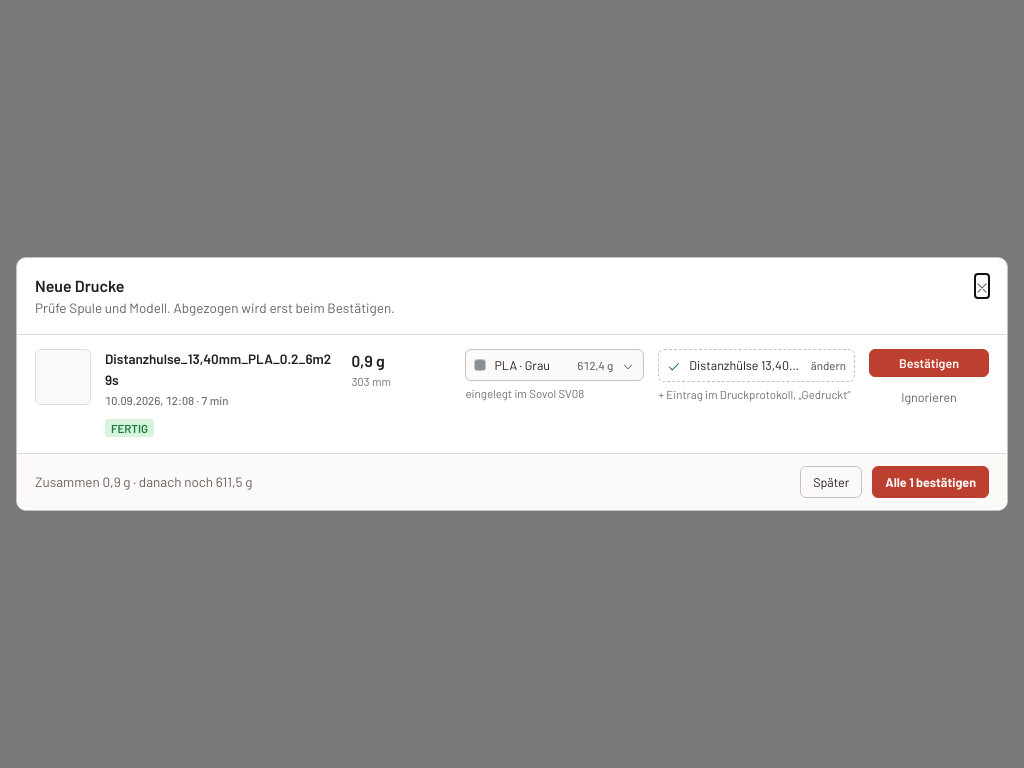
Test: PrinterJobsDialog › shows an error message when confirming is rejected
Click the button "Bestätigen". click: click(929, 363)
box: [869,349,989,377]
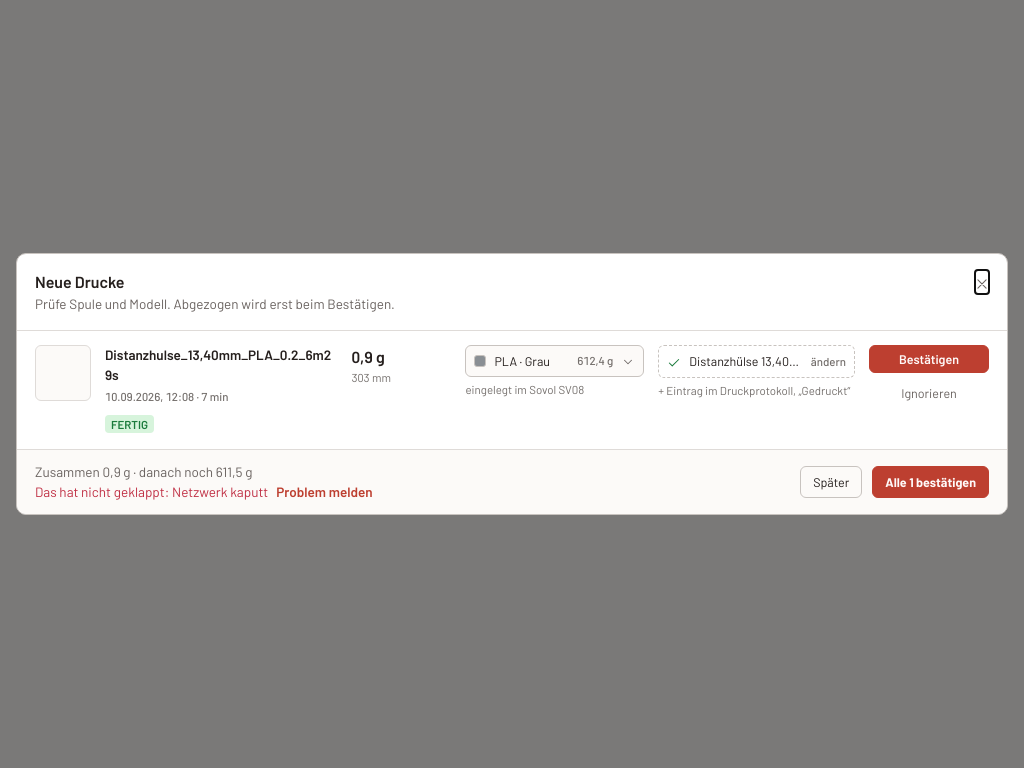
Expected: the message shows "Das hat nicht geklappt: Netzwerk kaputt", [35,482,373,502]
